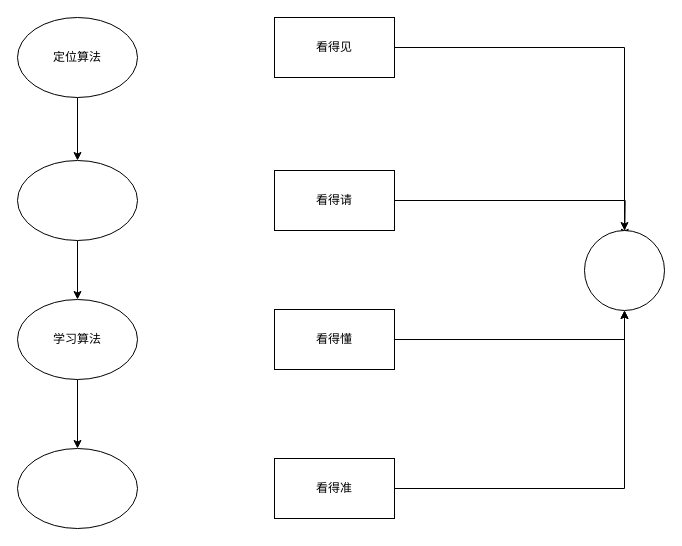
The diagram is 682 pixels wide and 546 high, and some of its shapes have lost their labels. The shapes that lost their labels are listed below. From the top down, each one's centre as x and y in pixels, then its label:
the point at 77,200: 滤波算法
the point at 624,270: 超智能算法
the point at 77,488: 纠错算法
